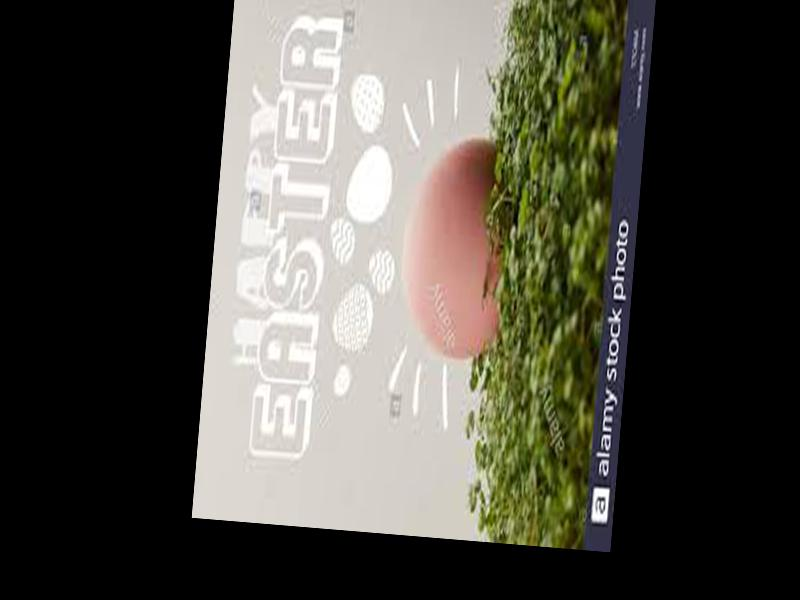Eggs: (396, 129, 514, 358)
